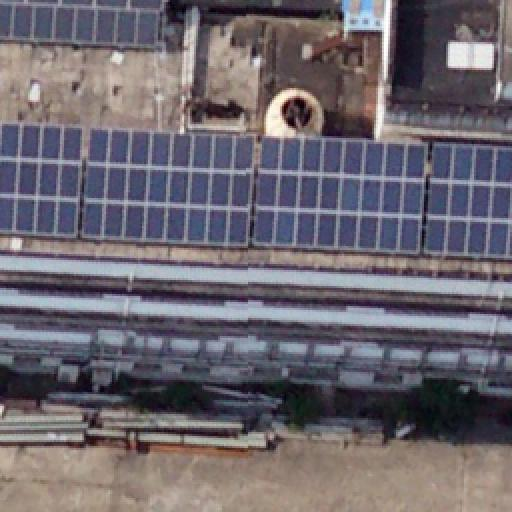solar-panel: (2, 114, 512, 270), (0, 0, 172, 66)
